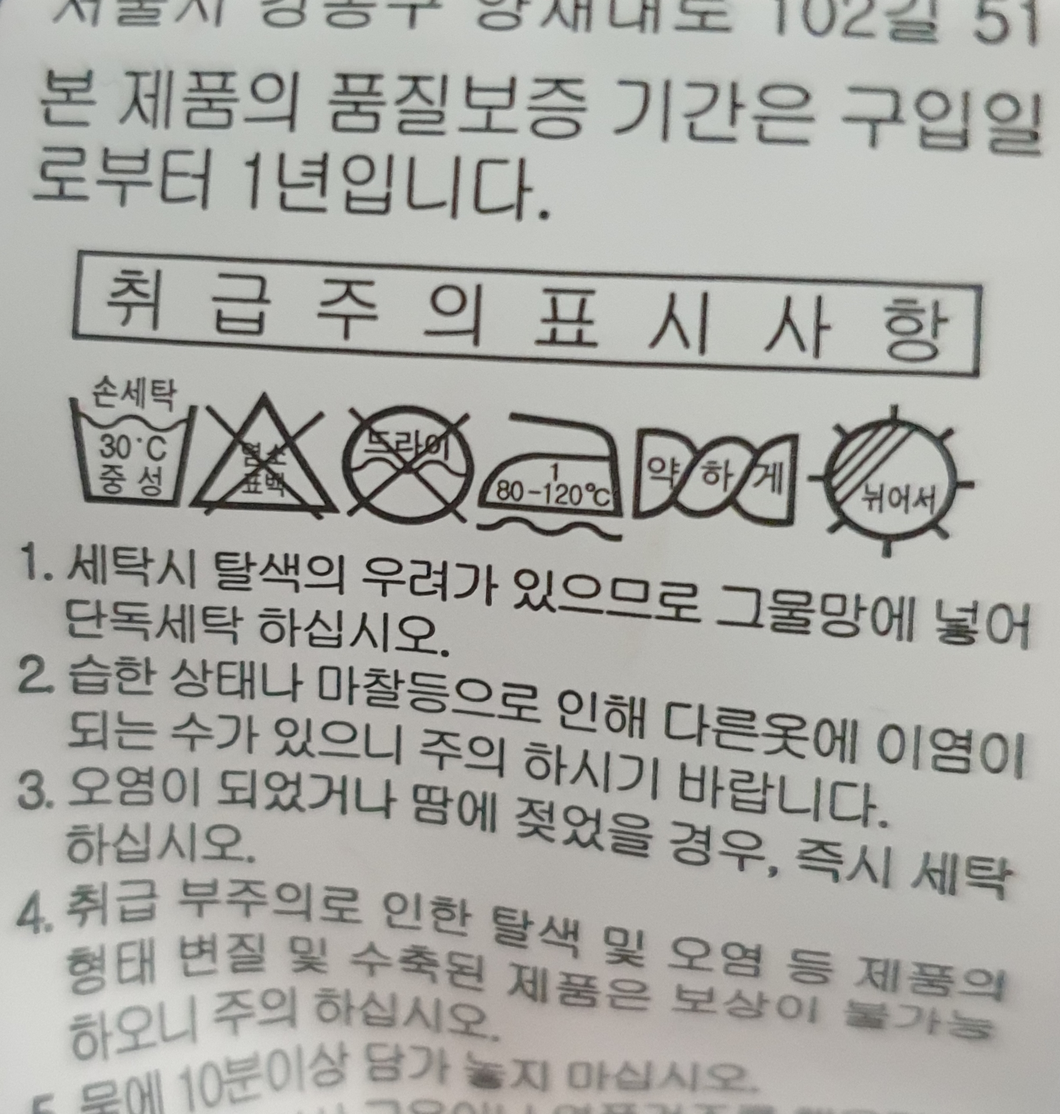KR_flat_dry_in_shade: (809, 395, 972, 555)
KR_gentle_wring: (628, 409, 809, 541)
KR_hand_wash_30_neutral: (64, 361, 194, 513)
KR_iron_low_temp_with_cloth: (473, 396, 629, 546)
KR_no_chlorine_bleach: (193, 380, 343, 516)
KR_no_dry_clean: (340, 390, 476, 527)
